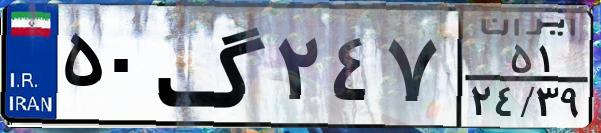0: (110, 28, 156, 98)
1: (537, 27, 568, 80)
2: (270, 28, 330, 110), (470, 70, 495, 125)
3: (535, 70, 560, 125)
4: (330, 28, 385, 110), (495, 70, 520, 125)
5: (57, 26, 110, 100), (508, 27, 537, 80)
7: (385, 28, 445, 110)
9: (560, 70, 590, 125)
گ: (156, 12, 270, 120)
